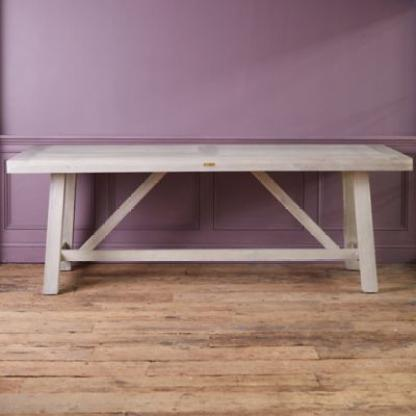table: (2, 137, 415, 298)
